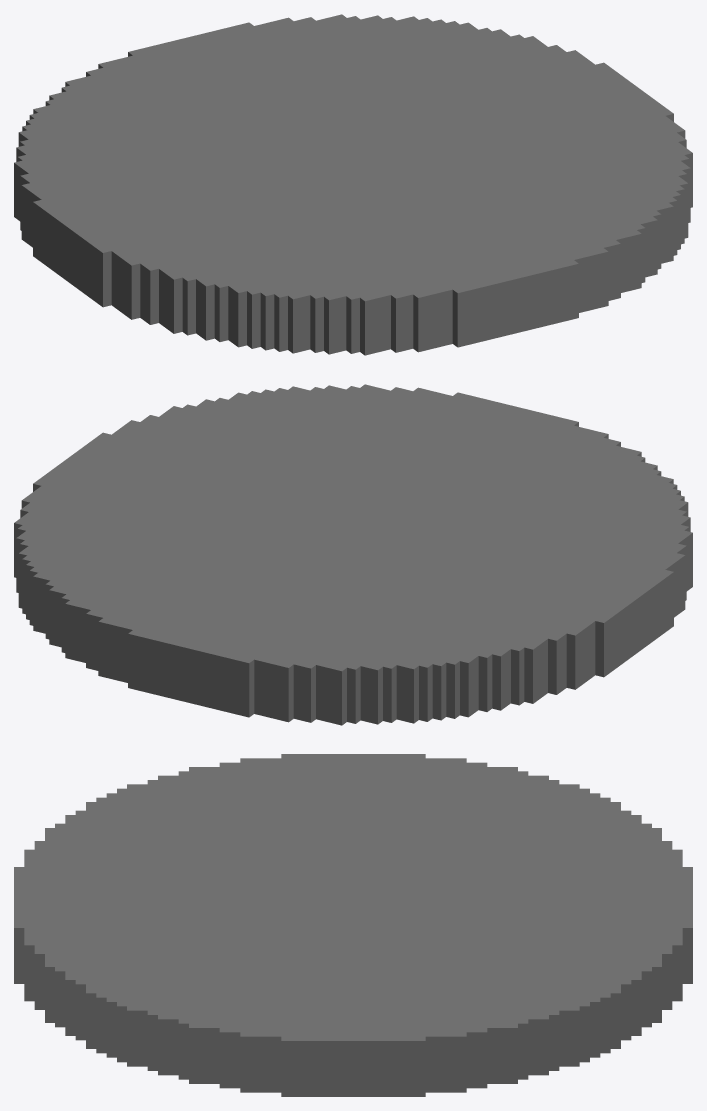
File: GroundCS.fbx
3 renders of one model, top to bottom at view 1: azimuth 30°, elevation 25°; view 2: azimuth 150°, elevation 25°; view 3: azimuth 270°, elevation 25°, orthographic. The views are drawn at different scales.
Parts seen in each view (by area): view 1: GroundCS:Mesh; view 2: GroundCS:Mesh; view 3: GroundCS:Mesh.
Boxes of the visible parts, left/top/right/bottom form: GroundCS:Mesh: left=14, top=14, right=692, bottom=355; GroundCS:Mesh: left=14, top=384, right=692, bottom=725; GroundCS:Mesh: left=14, top=754, right=692, bottom=1096.
Size of the model in its own units: 66 by 6 by 66.
1 material, 1 textured.
